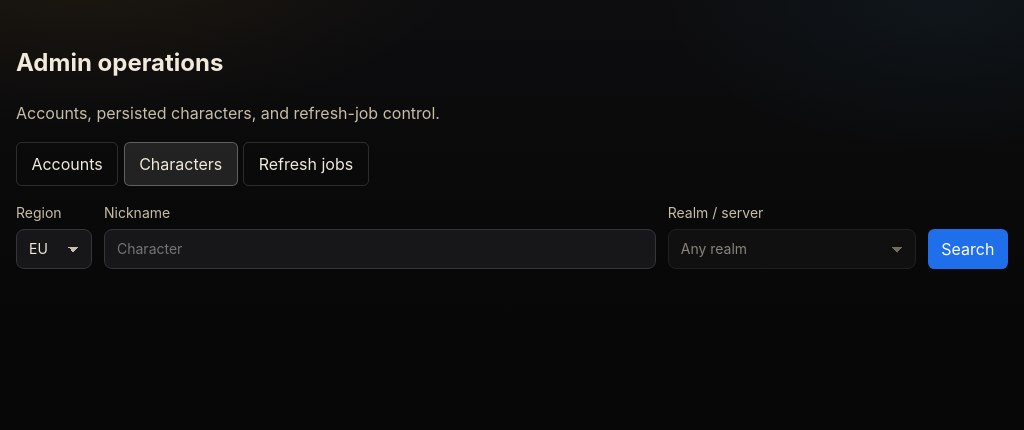
Test case: AdminUsersPage UI consistency › shows a banner only when message content is present
This screenshot has width=1024, height=430.
Click the button with test id "tab-accounts". click: x=67, y=164
box: [16, 142, 118, 186]
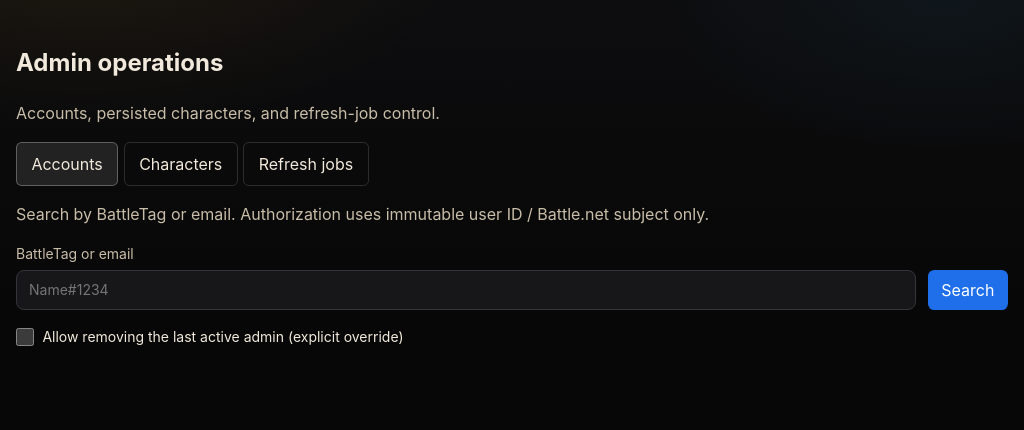
Type "a" into the search field named "q". click: x=466, y=290
box: [16, 270, 916, 310]
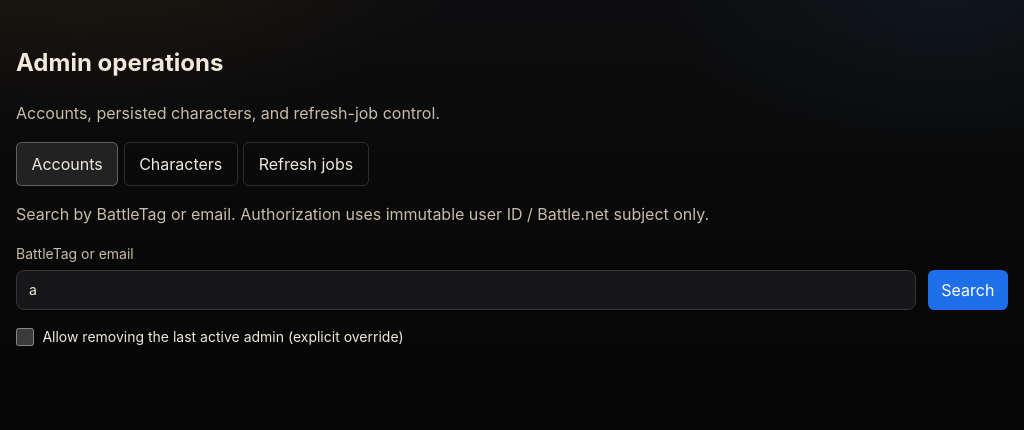
Submit the form with class "search", box [16, 243, 1008, 310]
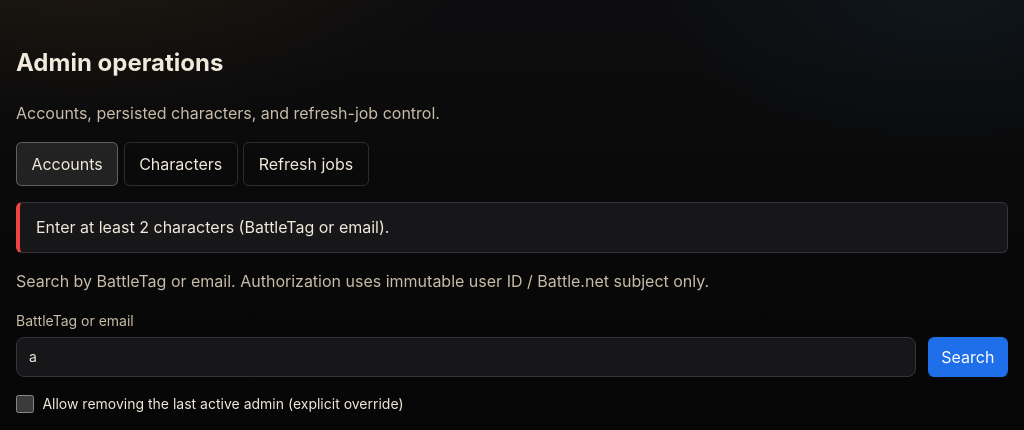
Now the message "Enter at least 2 characters (BattleTag or email)." is shown, box [16, 202, 1008, 253]
